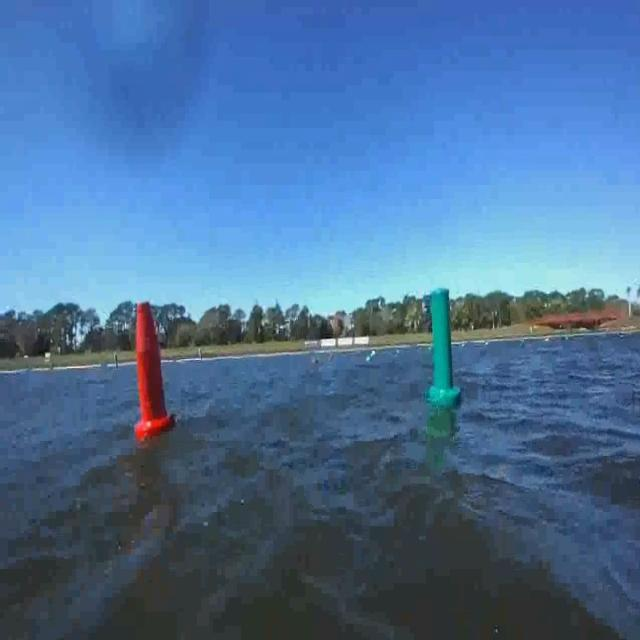green-column-buoy: (426, 285, 460, 406)
red-column-buoy: (134, 298, 173, 436)
